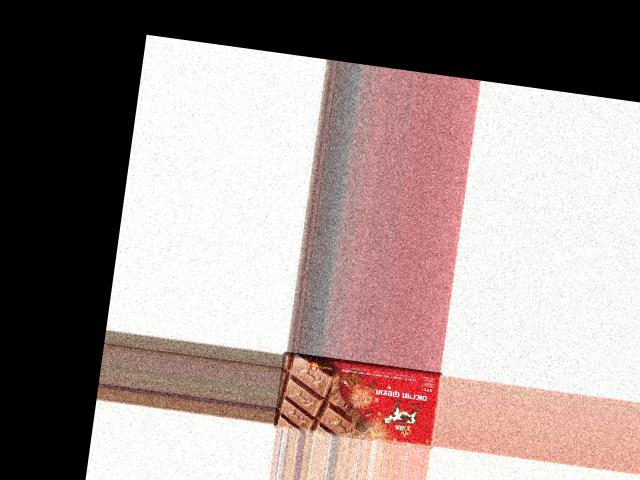chocolate: (274, 351, 444, 448)
